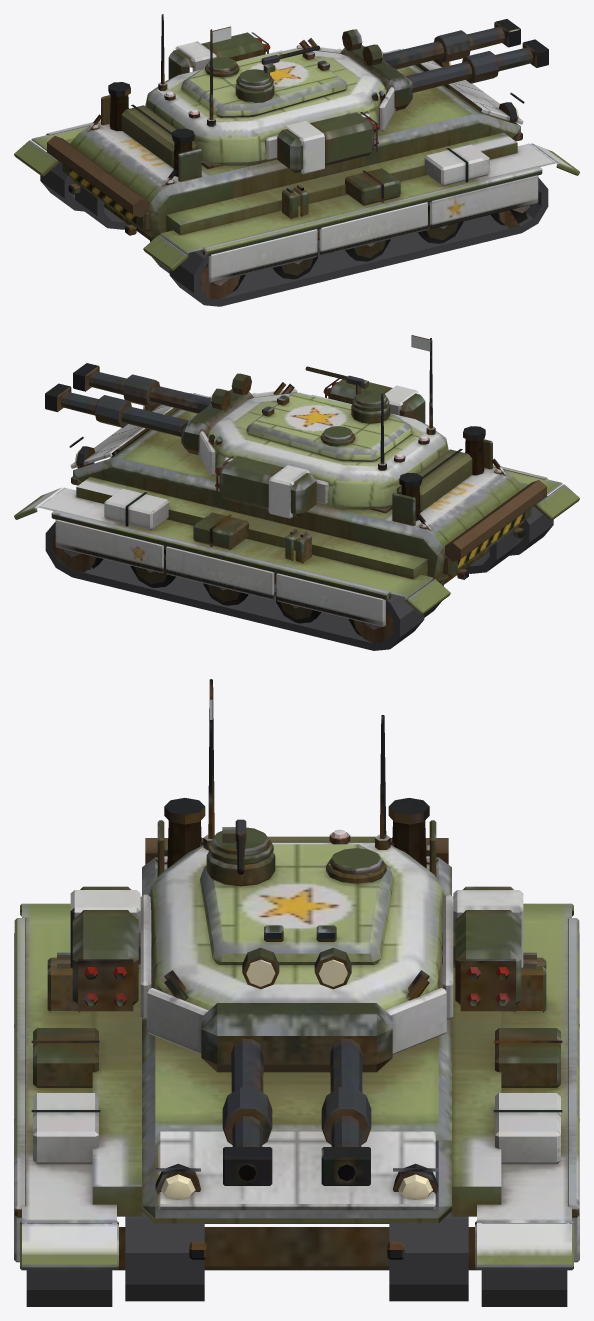
The model's file is 4tnk.soviet.glb.
The picture shows the model from 3 angles, top to bottom: view 1: azimuth 30°, elevation 25°; view 2: azimuth 150°, elevation 25°; view 3: azimuth 270°, elevation 25°; orthographic projection. The views are drawn at different scales.
Visible parts, largest first — view 1: root_mesh, turret_mesh, b1_mesh, b0_mesh; view 2: root_mesh, turret_mesh, b0_mesh, b1_mesh; view 3: root_mesh, turret_mesh, b0_mesh, b1_mesh.
Part boxes in pixels (x1=…): root_mesh: x1=14, y1=48, x2=579, y2=306; turret_mesh: x1=121, y1=14, x2=412, y2=174; b1_mesh: x1=386, y1=39, x2=548, y2=92; b0_mesh: x1=382, y1=19, x2=520, y2=69; root_mesh: x1=14, y1=392, x2=579, y2=650; turret_mesh: x1=181, y1=335, x2=472, y2=518; b0_mesh: x1=45, y1=383, x2=188, y2=436; b1_mesh: x1=73, y1=363, x2=211, y2=413; root_mesh: x1=14, y1=798, x2=579, y2=1306; turret_mesh: x1=70, y1=679, x2=523, y2=1072; b0_mesh: x1=321, y1=1039, x2=371, y2=1185; b1_mesh: x1=222, y1=1039, x2=272, y2=1185.
Bounding box in the file's own units: 1.35 × 0.671 × 0.858.
Materials: 2 (1 with a texture image).
